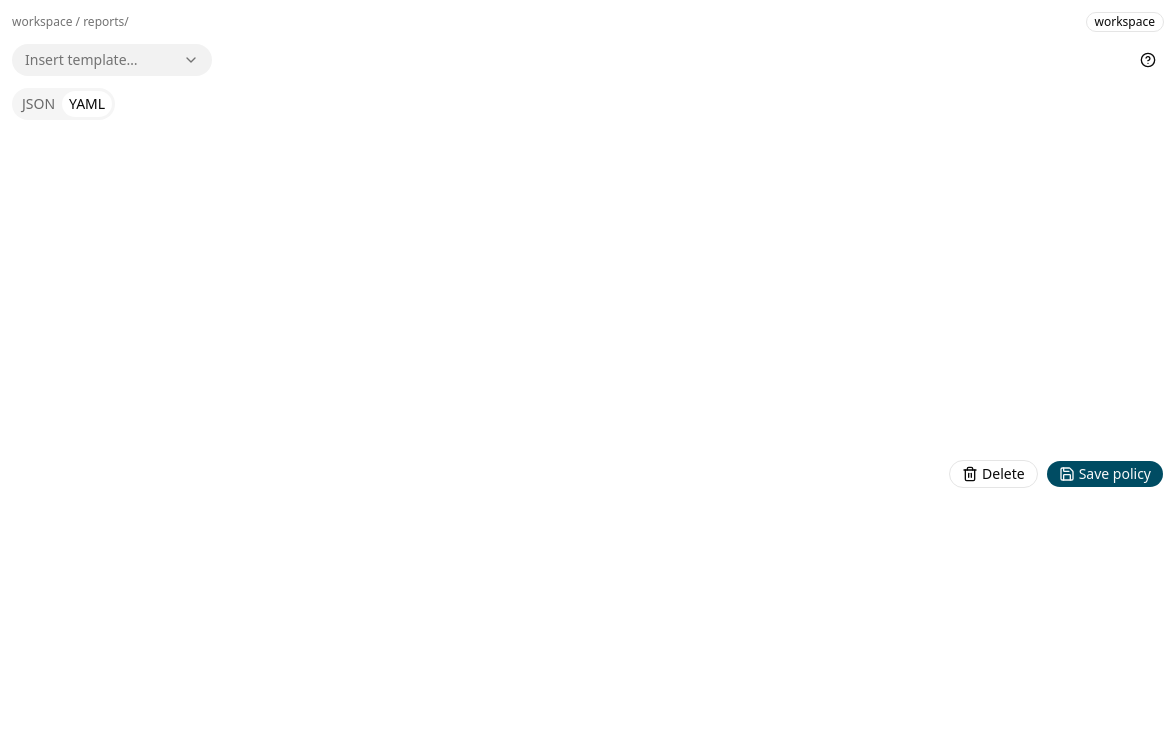
FilePolicyEditor — reference mode › surfaces structured 422 save errors inline
The image size is (1176, 732).
Click the button "Save policy" at point(1105, 474), box [1046,460,1164,488]
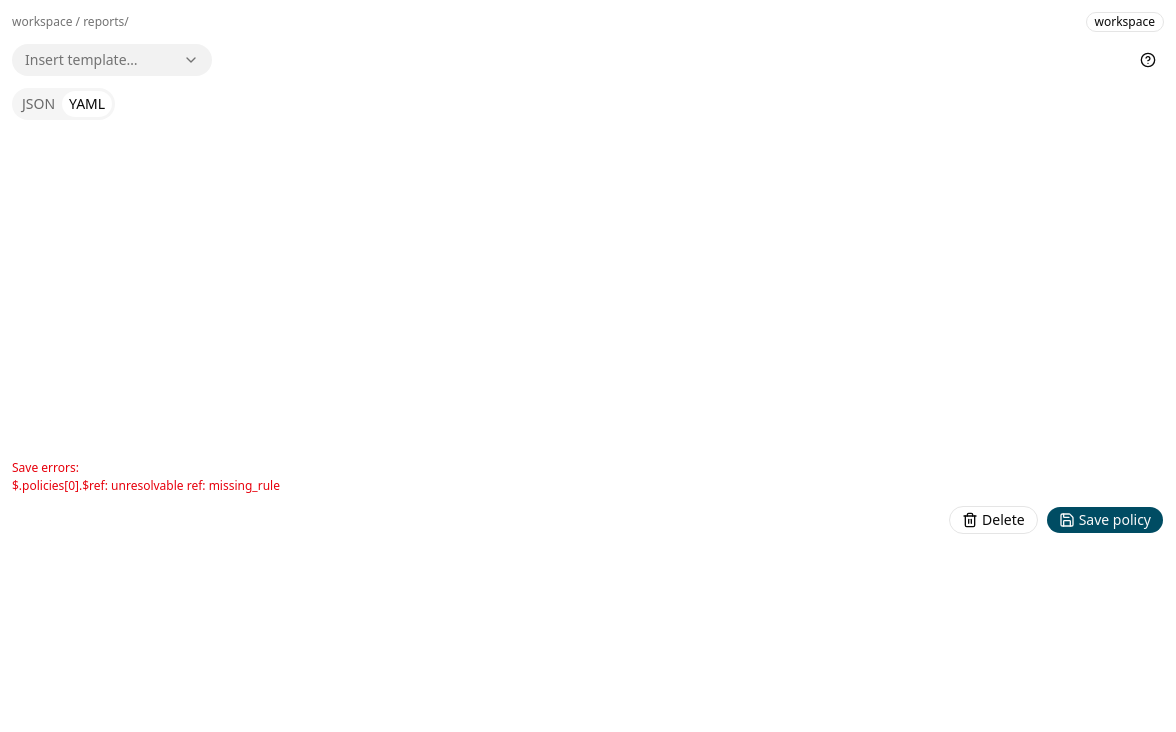
Result: the message "Save errors: $.policies[0].$ref: unresolvable ref: missing_rule" is shown at [12,459,280,494]
Result: the text "$.policies[0].$ref: unresolvable ref: missing_rule" is shown at [12,477,280,494]
